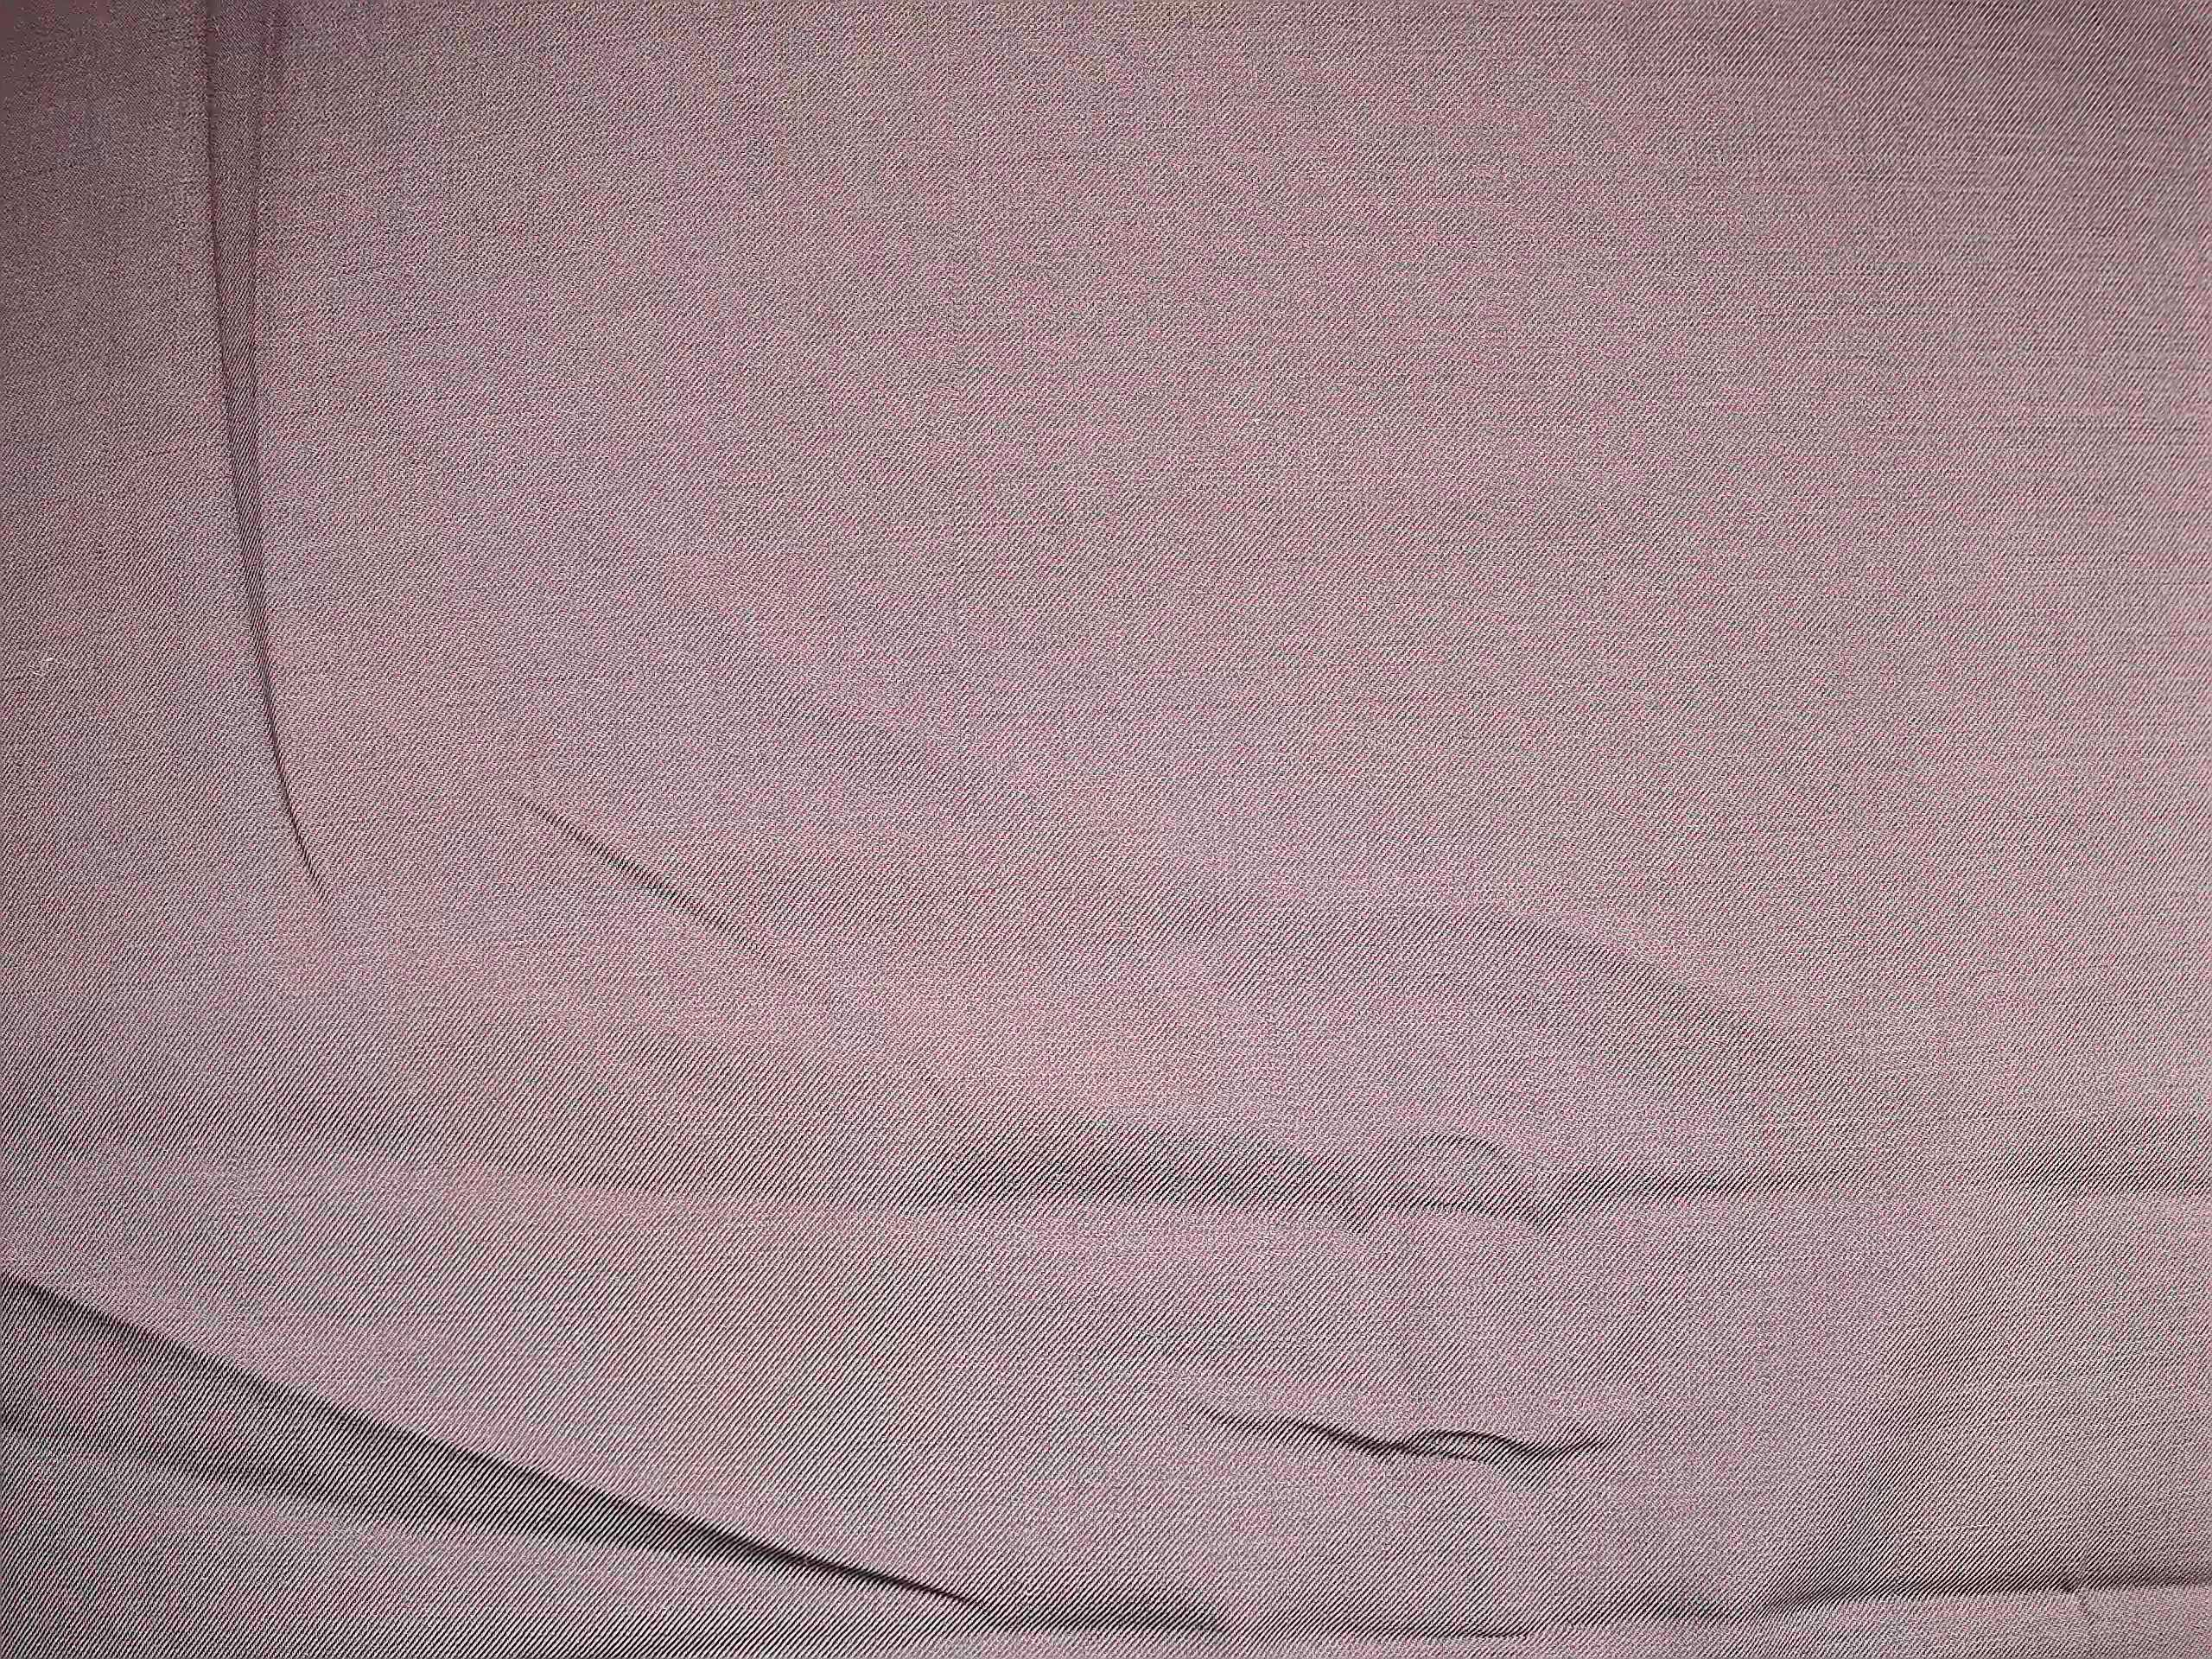hanging-warp: (930, 185, 988, 938)
